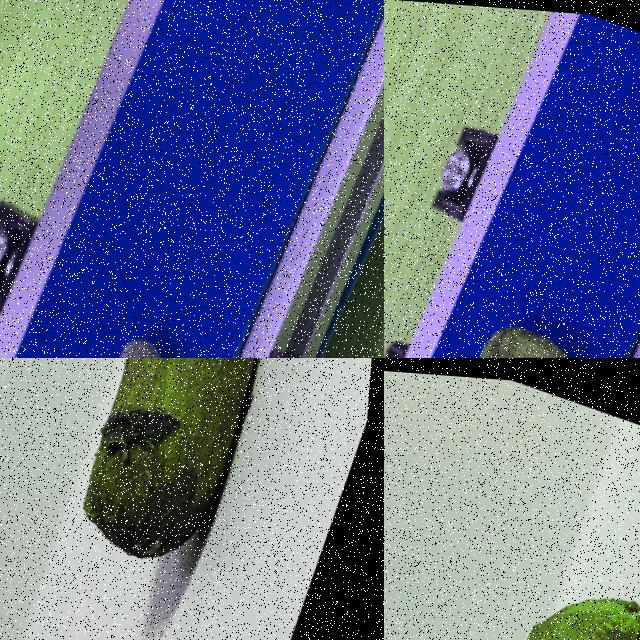Agglomerated_cocoabeans: (415, 491, 639, 639), (18, 225, 259, 357)
Fine_cocoabeans: (0, 358, 371, 639), (403, 220, 639, 357)
